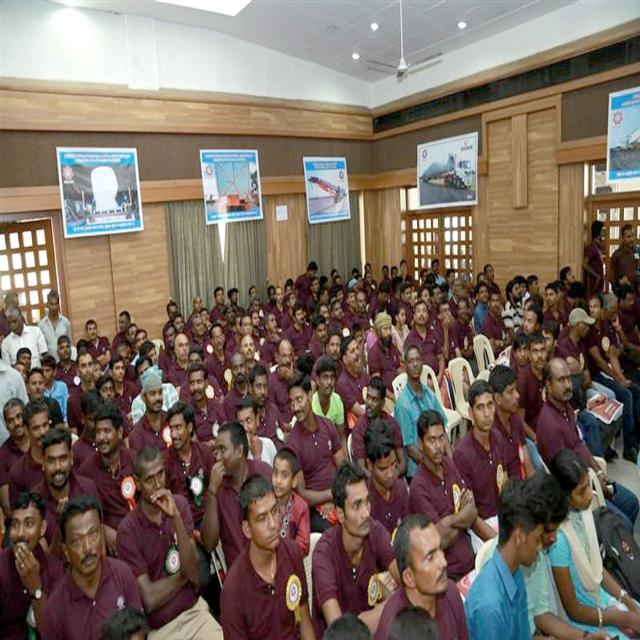body: (114, 439, 225, 640), (514, 466, 628, 639), (537, 356, 638, 538), (546, 446, 640, 640), (217, 472, 318, 640), (265, 259, 501, 329), (464, 474, 558, 640), (311, 461, 402, 628), (42, 495, 144, 640), (450, 377, 522, 556), (373, 510, 470, 640), (408, 408, 480, 583), (200, 421, 274, 570), (556, 304, 623, 464), (283, 370, 348, 534), (75, 400, 140, 558), (583, 290, 640, 467), (28, 424, 105, 550), (0, 483, 60, 639), (501, 260, 584, 370), (5, 396, 77, 522), (540, 319, 605, 458), (393, 343, 454, 488), (159, 286, 265, 368), (52, 310, 159, 383), (164, 400, 216, 534), (487, 364, 538, 488), (351, 374, 408, 480), (363, 414, 412, 535), (267, 445, 312, 561), (0, 291, 33, 446), (127, 364, 173, 473), (600, 289, 640, 403), (311, 356, 350, 468), (367, 312, 408, 416), (402, 298, 446, 391), (1, 396, 33, 522), (186, 362, 229, 452), (336, 333, 372, 440), (514, 330, 548, 442), (130, 353, 180, 428), (233, 395, 278, 469), (267, 338, 302, 432), (0, 304, 49, 370), (178, 344, 226, 406), (36, 288, 74, 366), (247, 363, 285, 440), (71, 387, 105, 470), (66, 350, 98, 438), (607, 222, 638, 303), (23, 366, 64, 424), (482, 287, 514, 361), (432, 298, 465, 369), (309, 329, 346, 391), (40, 354, 70, 429), (452, 298, 478, 383), (222, 349, 250, 425), (580, 218, 606, 299), (205, 322, 232, 398), (616, 282, 640, 353), (85, 319, 113, 377), (163, 331, 191, 388), (286, 302, 314, 358), (108, 354, 134, 414), (501, 279, 525, 339), (261, 310, 284, 359), (238, 332, 260, 378), (391, 305, 410, 358), (308, 313, 328, 363), (474, 280, 491, 336), (352, 329, 376, 366), (94, 371, 117, 408)
